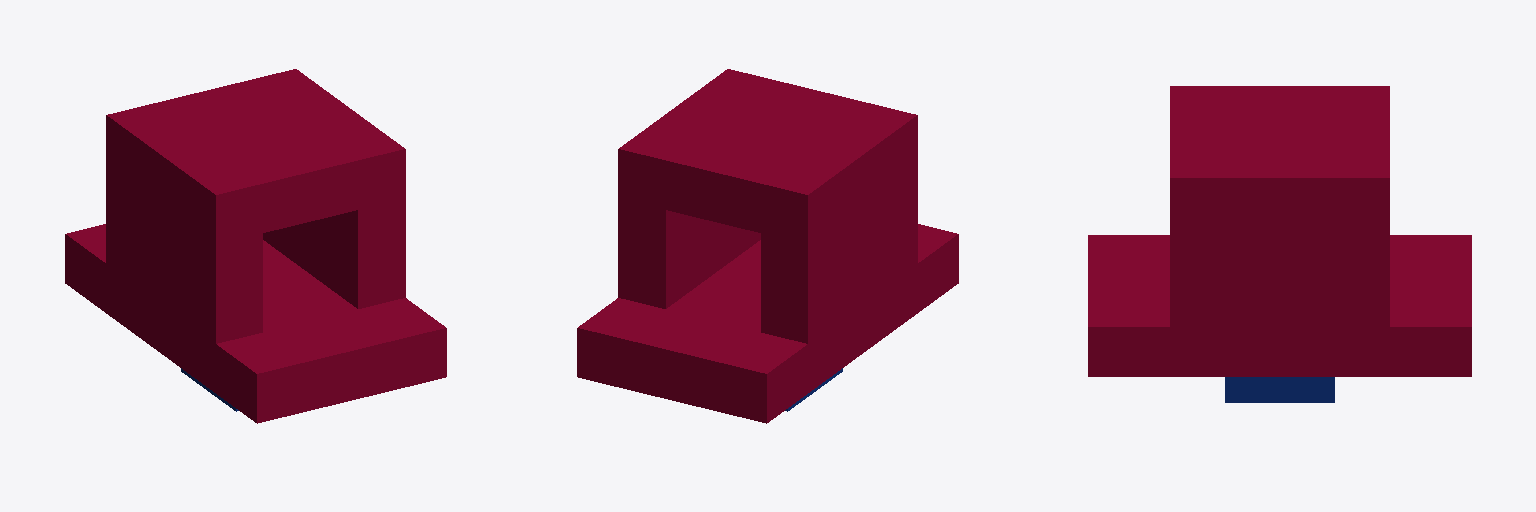
The model's file is CosaCuqui.obj.
3 views of the same model, side by side, from view 1: azimuth 30°, elevation 25°; view 2: azimuth 150°, elevation 25°; view 3: azimuth 270°, elevation 25° (orthographic).
Bounding box in the file's own units: 4 × 5 × 7.